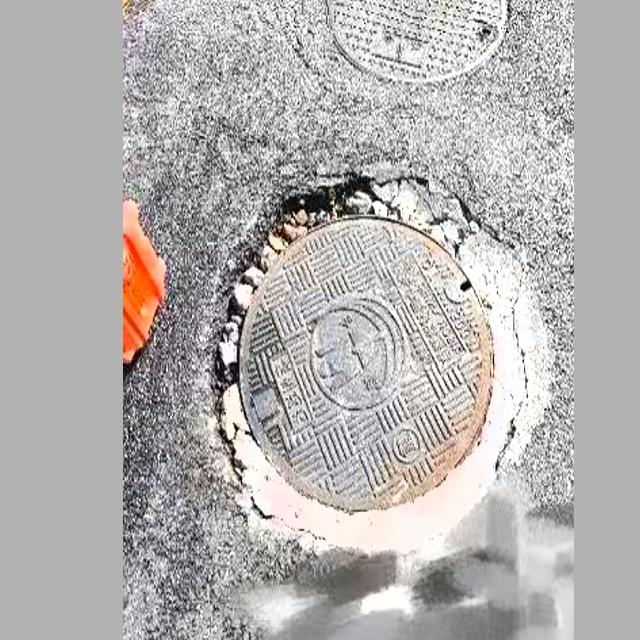circle: (213, 176, 546, 569)
good: (324, 0, 514, 85)
